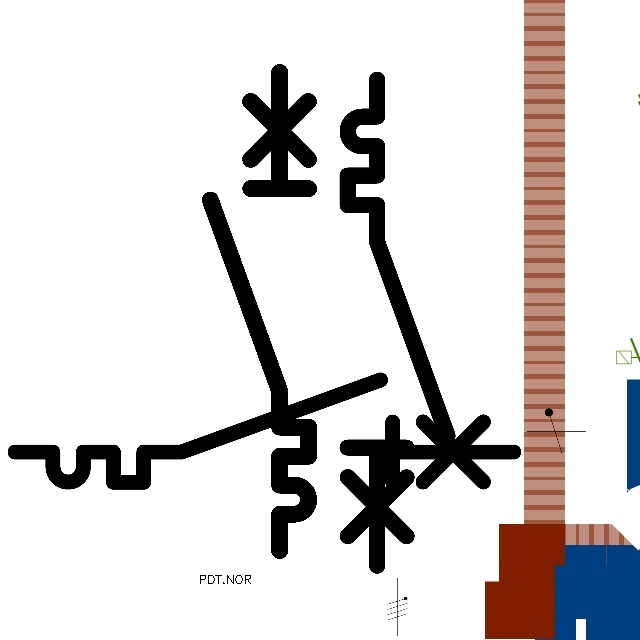interruptor_termomagnetico: (2, 367, 526, 495), (335, 67, 460, 578), (198, 60, 321, 563)
